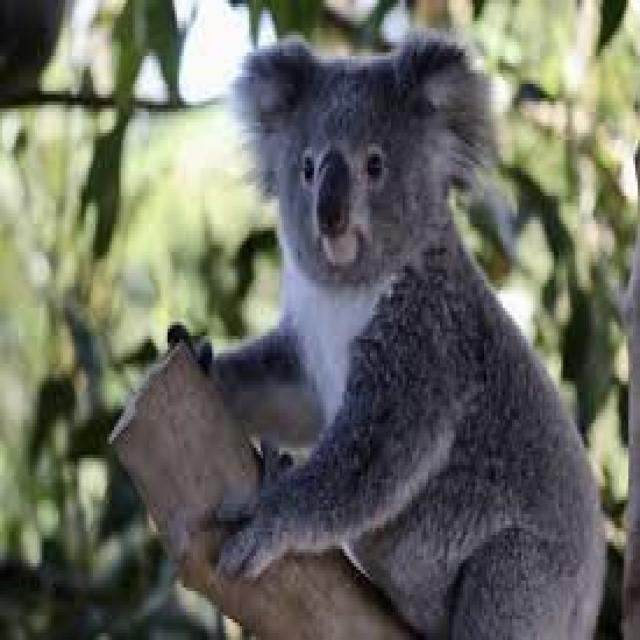Koala: (158, 35, 611, 640)
